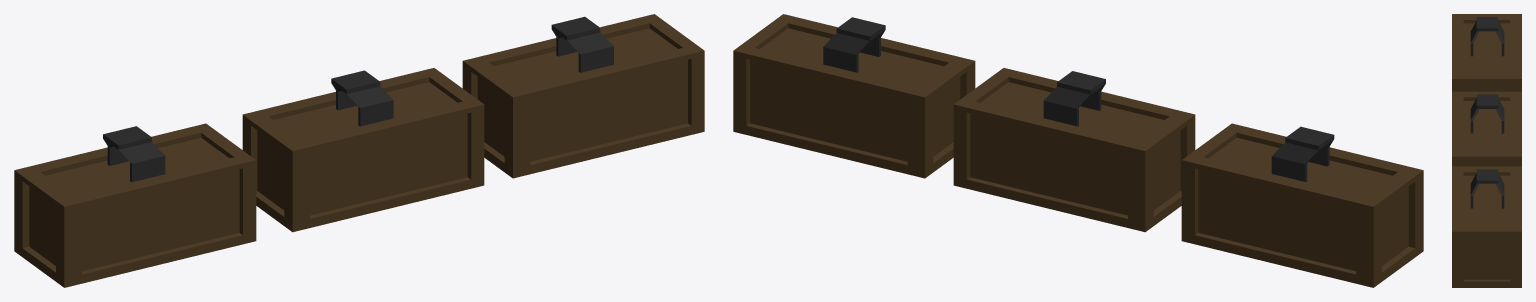
File: tram_group_3.obj
3 renders of one model, left to right at view 1: azimuth 30°, elevation 25°; view 2: azimuth 150°, elevation 25°; view 3: azimuth 270°, elevation 25°, orthographic. The views are drawn at different scales.
Parts seen in each view (by area): view 1: tram_group_3 tram_cargo1, tram_group_3 tram_cargo2, tram_group_3 tram_cargo3, tram_anchor1 tram_group_3, tram_group_3 tram_anchor3, tram_group_3 tram_anchor2; view 2: tram_group_3 tram_cargo1, tram_group_3 tram_cargo2, tram_group_3 tram_cargo3, tram_anchor1 tram_group_3, tram_group_3 tram_anchor2, tram_group_3 tram_anchor3; view 3: tram_group_3 tram_cargo3, tram_group_3 tram_cargo1, tram_group_3 tram_cargo2, tram_group_3 tram_anchor2, tram_group_3 tram_anchor3, tram_anchor1 tram_group_3.
Part boxes in pixels (<box>): tram_group_3 tram_cargo1: <box>14,123,256,287</box>; tram_group_3 tram_cargo2: <box>242,68,484,232</box>; tram_group_3 tram_cargo3: <box>462,14,704,178</box>; tram_anchor1 tram_group_3: <box>103,126,165,181</box>; tram_group_3 tram_anchor3: <box>551,16,613,72</box>; tram_group_3 tram_anchor2: <box>331,70,393,126</box>; tram_group_3 tram_cargo1: <box>1181,123,1423,287</box>; tram_group_3 tram_cargo2: <box>953,68,1195,232</box>; tram_group_3 tram_cargo3: <box>733,14,975,178</box>; tram_anchor1 tram_group_3: <box>1271,126,1334,181</box>; tram_group_3 tram_anchor2: <box>1043,71,1105,126</box>; tram_group_3 tram_anchor3: <box>823,17,885,72</box>; tram_group_3 tram_cargo3: <box>1452,166,1521,287</box>; tram_group_3 tram_cargo1: <box>1452,14,1521,91</box>; tram_group_3 tram_cargo2: <box>1452,91,1521,166</box>; tram_group_3 tram_anchor2: <box>1470,94,1504,133</box>; tram_group_3 tram_anchor3: <box>1470,169,1504,208</box>; tram_anchor1 tram_group_3: <box>1470,17,1504,56</box>.
Size of the model in its own units: 150 by 25.01 by 20.29.
